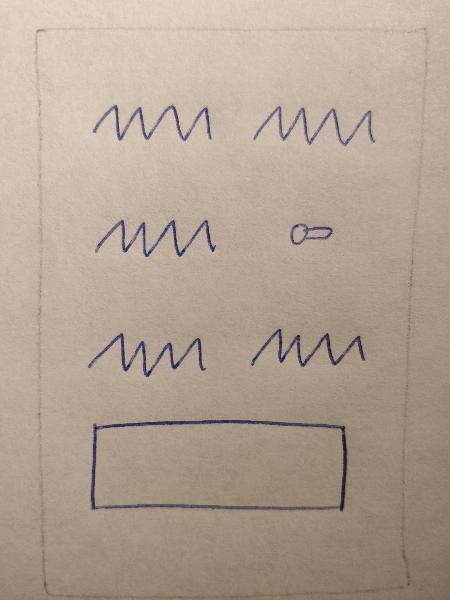switch: (280, 207, 343, 250)
text: (81, 205, 226, 270), (76, 322, 216, 386), (240, 316, 375, 379), (248, 96, 383, 155), (85, 89, 224, 145)
text_input: (82, 411, 362, 520)
